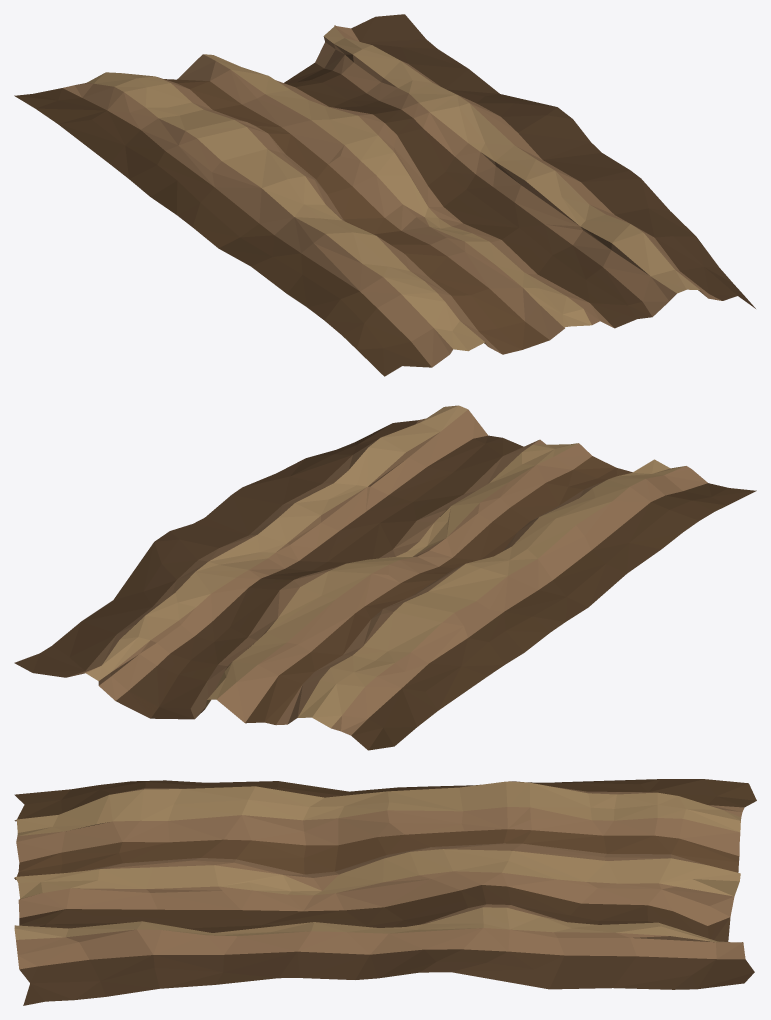
The model's file is EA_M_Env_Road_Mud_01a.fbx.
3 views of the same model, one above another, from view 1: azimuth 30°, elevation 25°; view 2: azimuth 150°, elevation 25°; view 3: azimuth 270°, elevation 25° (orthographic).
Parts seen in each view (by area): view 1: EA_M_Env_Road_Mud_01a_LOD0; view 2: EA_M_Env_Road_Mud_01a_LOD0; view 3: EA_M_Env_Road_Mud_01a_LOD0.
Part boxes in pixels (x1,y1,x2,y2): EA_M_Env_Road_Mud_01a_LOD0: [14, 14, 755, 376]; EA_M_Env_Road_Mud_01a_LOD0: [14, 405, 756, 750]; EA_M_Env_Road_Mud_01a_LOD0: [14, 779, 756, 1005].
Size of what is drawn, in the model's own units: 3.98 by 0.7147 by 6.51.
